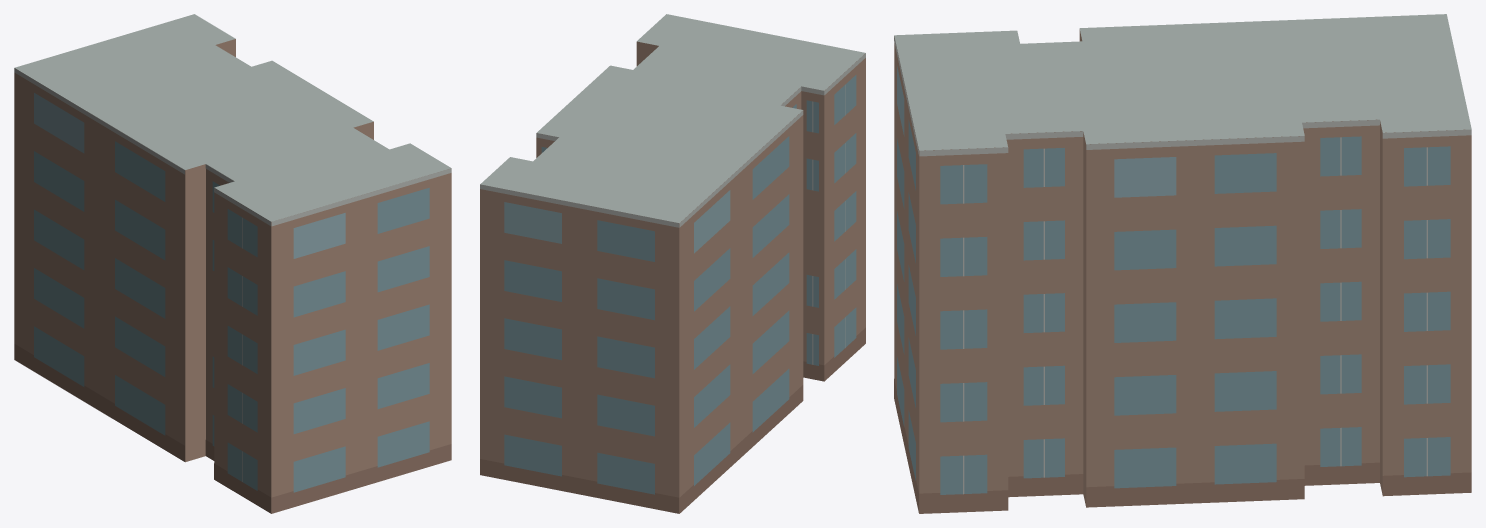
File: survey-upis-32940241.glb
3 views of the same model, side by side, from view 1: azimuth 30°, elevation 25°; view 2: azimuth 150°, elevation 25°; view 3: azimuth 270°, elevation 25° (orthographic). The views are drawn at different scales.
Parts seen in each view (by area): view 1: survey-upis-32940241.tmp; view 2: survey-upis-32940241.tmp; view 3: survey-upis-32940241.tmp.
Part boxes in pixels (x1,y1,x2,y2): survey-upis-32940241.tmp: (14, 14, 451, 513); survey-upis-32940241.tmp: (480, 14, 865, 513); survey-upis-32940241.tmp: (894, 14, 1471, 513).
Size of the model in its own units: 12.31 by 15.25 by 21.99.
